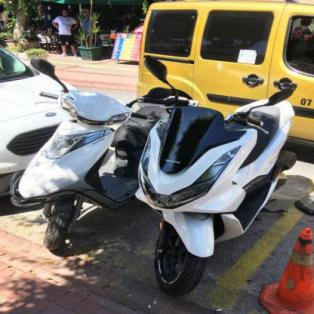Motocicleta: (143, 87, 280, 297), (24, 67, 140, 251)
